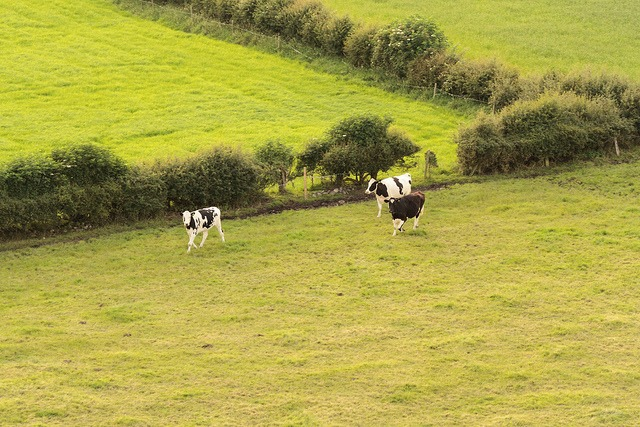cow: (364, 173, 412, 218), (180, 207, 225, 254), (385, 191, 425, 236)
